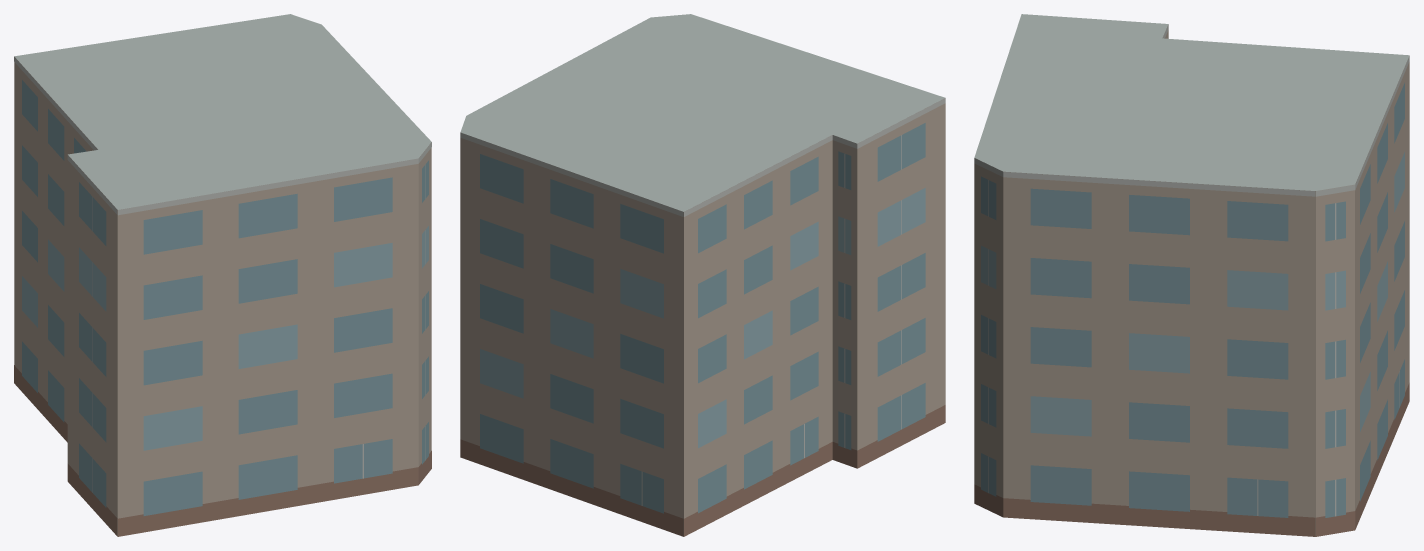
Rendered from survey-upis-33047057.glb.
The picture shows the model from 3 angles, left to right: view 1: azimuth 30°, elevation 25°; view 2: azimuth 150°, elevation 25°; view 3: azimuth 270°, elevation 25°; orthographic projection. The views are drawn at different scales.
Parts seen in each view (by area): view 1: survey-upis-33047057.tmp; view 2: survey-upis-33047057.tmp; view 3: survey-upis-33047057.tmp.
Boxes of the visible parts, bbox=[...] form: survey-upis-33047057.tmp: bbox=[14, 14, 431, 536]; survey-upis-33047057.tmp: bbox=[460, 14, 945, 536]; survey-upis-33047057.tmp: bbox=[974, 14, 1409, 536].
Size of the model in its own units: 16.54 by 15.05 by 17.18.
